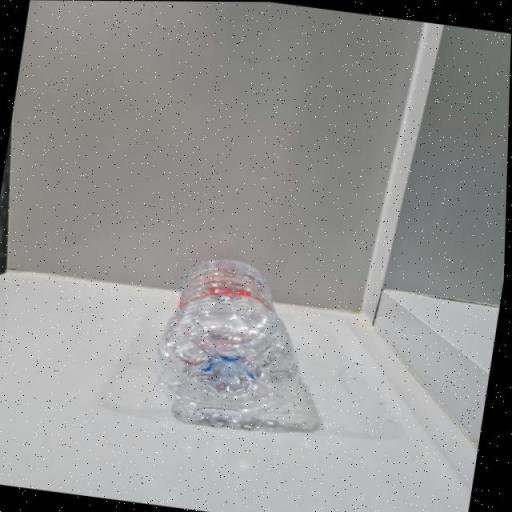plastic: (150, 249, 317, 438)
